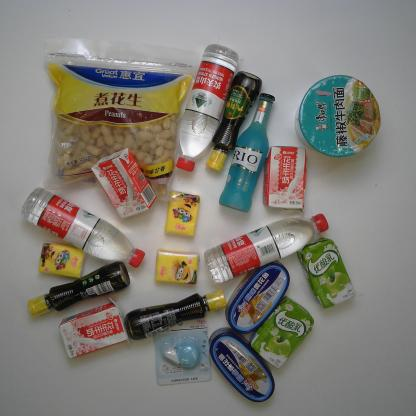Alcohol: (218, 92, 275, 213)
Canned Food: (206, 327, 276, 403), (224, 259, 290, 335)
Dried Food: (42, 31, 199, 197)
Drink: (20, 186, 145, 270), (204, 212, 330, 284), (174, 42, 240, 172)
Instant Noodles: (294, 73, 382, 160)
Milk: (58, 293, 132, 361), (90, 148, 158, 220), (249, 296, 315, 370), (296, 236, 357, 310), (261, 144, 309, 212)
Seasoner: (25, 260, 131, 321), (204, 70, 263, 172), (124, 288, 228, 341)
Stationery: (151, 310, 213, 387)
Tissue: (38, 239, 86, 280), (163, 188, 201, 238), (152, 249, 200, 286)
